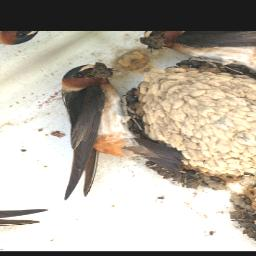Swallow: (0, 56, 204, 207)
